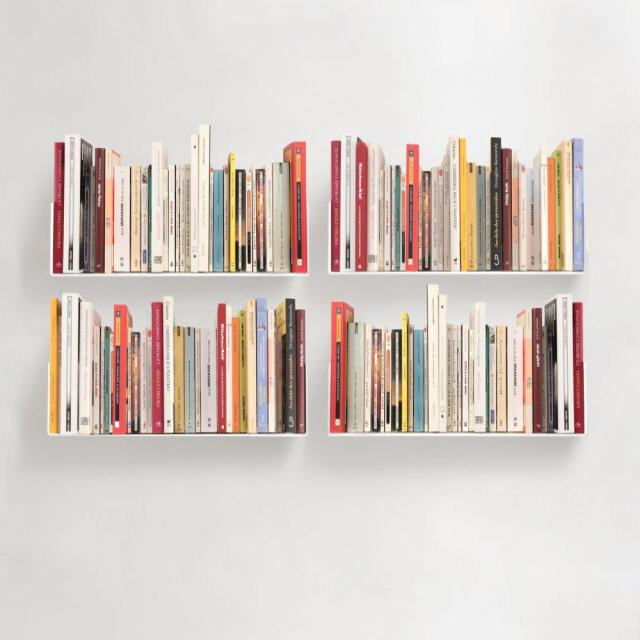book: (275, 164, 289, 274), (65, 142, 77, 266), (429, 290, 438, 430), (258, 306, 268, 432), (349, 330, 361, 432), (64, 297, 73, 432), (368, 148, 378, 268), (344, 139, 353, 270), (116, 172, 128, 269), (203, 330, 214, 434), (406, 148, 415, 272), (113, 310, 122, 432), (356, 148, 365, 269), (528, 172, 539, 271), (493, 145, 502, 265), (451, 143, 459, 268), (154, 308, 162, 431), (200, 130, 207, 269), (80, 309, 88, 430), (331, 308, 339, 428), (476, 166, 485, 267), (575, 144, 582, 270), (96, 154, 103, 268), (468, 168, 476, 267), (416, 337, 424, 431), (248, 308, 254, 433), (155, 147, 161, 268), (298, 316, 304, 432), (549, 159, 555, 271), (237, 173, 244, 269), (166, 300, 171, 430), (55, 144, 60, 270), (452, 144, 457, 267), (258, 171, 264, 272), (132, 174, 138, 268), (444, 161, 449, 269), (192, 138, 196, 269), (334, 142, 338, 268), (288, 304, 292, 429), (374, 332, 379, 431), (385, 334, 390, 432), (385, 170, 390, 267), (566, 147, 570, 267), (512, 152, 516, 266), (446, 158, 450, 270), (396, 332, 400, 430), (142, 174, 146, 270), (440, 170, 443, 270), (434, 170, 437, 269), (404, 321, 406, 433), (396, 166, 398, 268), (366, 331, 368, 432)
